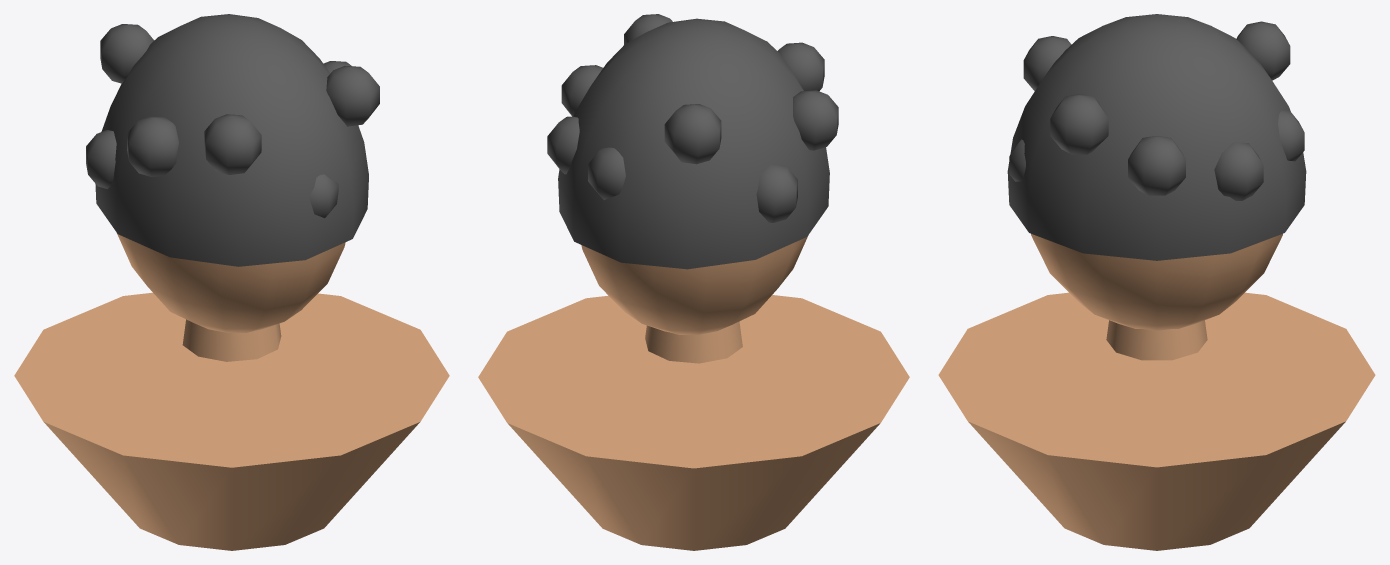
File: raw_001.glb
3 views of the same model, side by side, from view 1: azimuth 30°, elevation 25°; view 2: azimuth 150°, elevation 25°; view 3: azimuth 270°, elevation 25° (orthographic).
Size of the model in its own units: 1.81 by 2.21 by 1.81.
